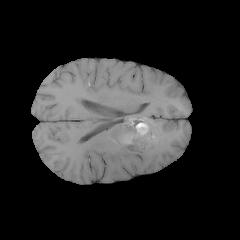glioma: (109, 116, 171, 165)
